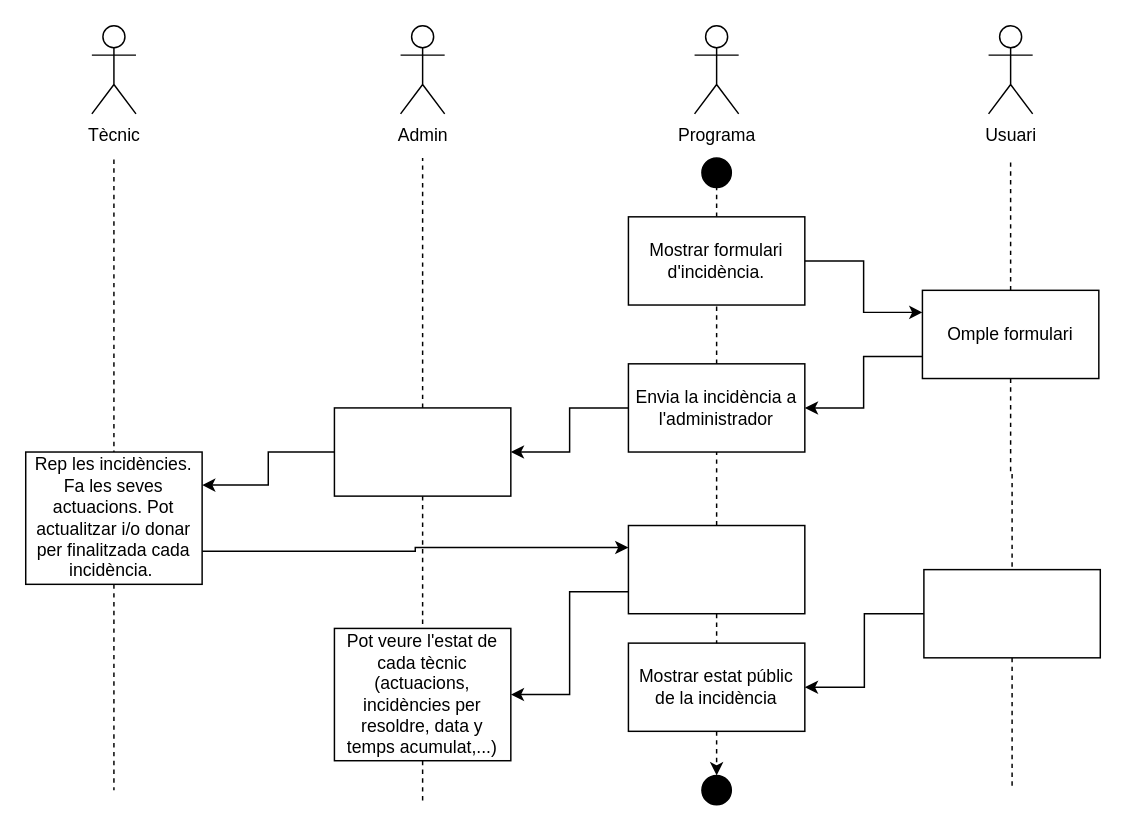
Some shapes in this 1126 by 832 pixel diagram are drawn without their labels. The centre of each missing label's shape, as x and y in pixels:
Escriure codi d'incidència: point 1011,613
Registra les dades de les actualitzacions de cada incidència: point 716,569
Revisa, assigna la prioritat i delega un tècnic per a cada incidència: point 422,451
